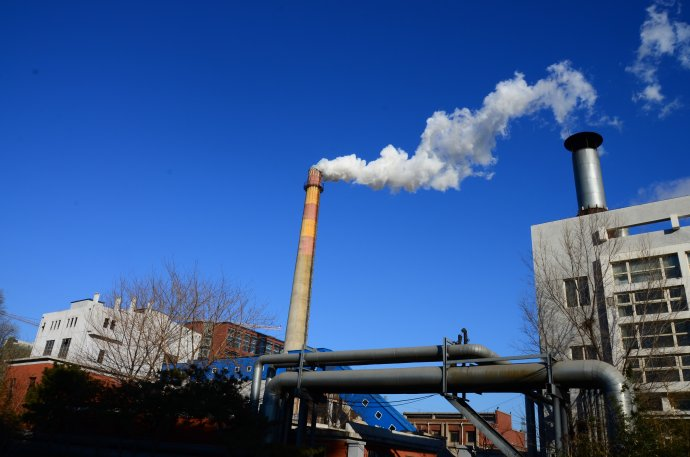dust: (295, 88, 522, 193)
